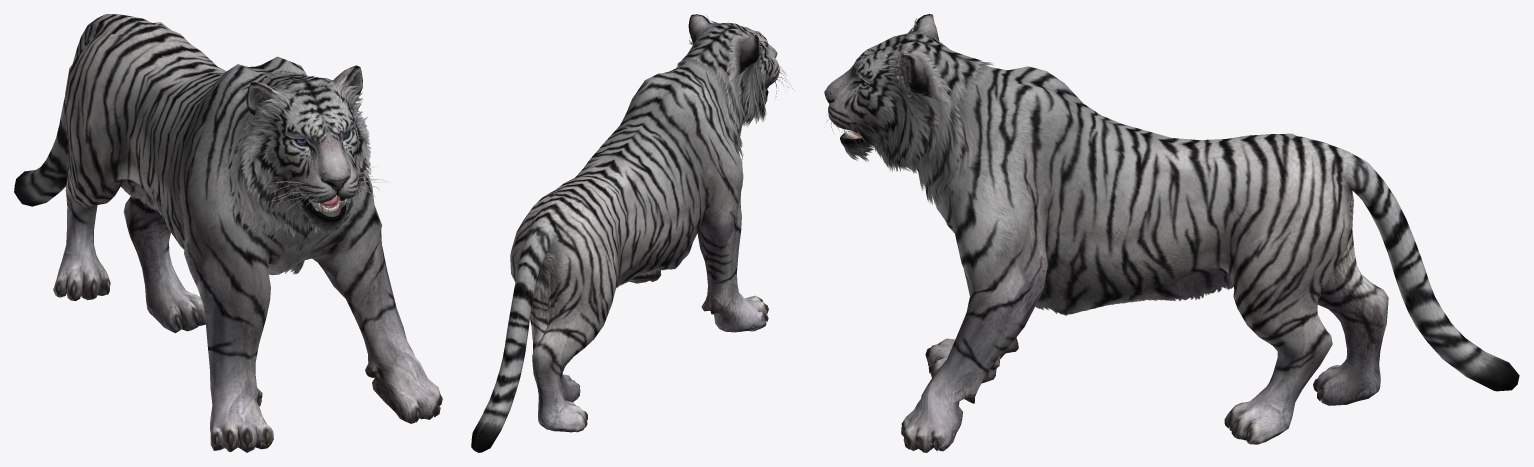
3 views of the same model, side by side, from view 1: azimuth 30°, elevation 25°; view 2: azimuth 150°, elevation 25°; view 3: azimuth 270°, elevation 25° (orthographic). The views are drawn at different scales.
Parts seen in each view (by area): view 1: Model001_25_tiger_0.5_0_0; view 2: Model001_25_tiger_0.5_0_0; view 3: Model001_25_tiger_0.5_0_0.
Part boxes in pixels (box(x1,y1,x2,y2)): Model001_25_tiger_0.5_0_0: box(14, 14, 442, 452); Model001_25_tiger_0.5_0_0: box(471, 14, 792, 452); Model001_25_tiger_0.5_0_0: box(824, 14, 1519, 452).
Bounding box in the file's own units: 73.09 × 130 × 216.
1 material, 1 textured.
